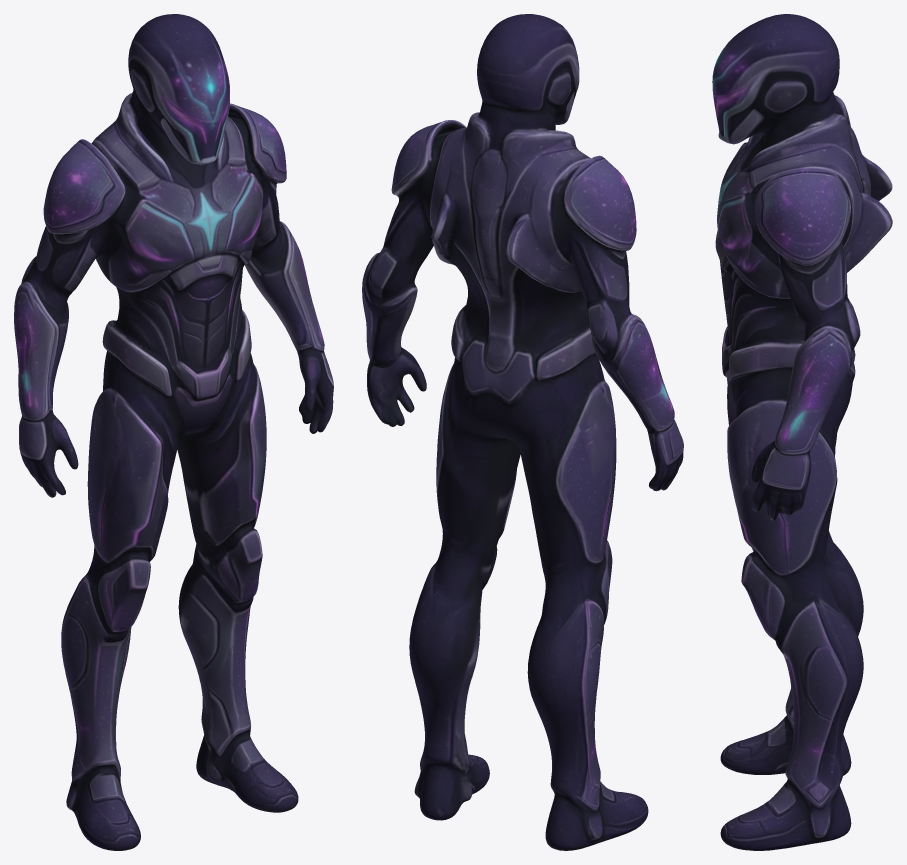
The model's file is Meshy_AI_Nebula_Sentinel_1003104038_texture.glb.
The picture shows the model from 3 angles, left to right: view 1: azimuth 30°, elevation 25°; view 2: azimuth 150°, elevation 25°; view 3: azimuth 270°, elevation 25°; orthographic projection.
Size of the model in its own units: 0.7606 by 1.9 by 0.3939.
1 material, 1 textured.
